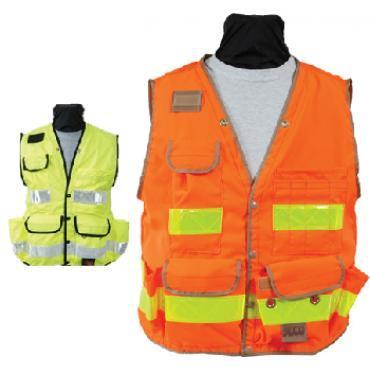vest: (137, 55, 368, 356), (11, 123, 129, 271)
